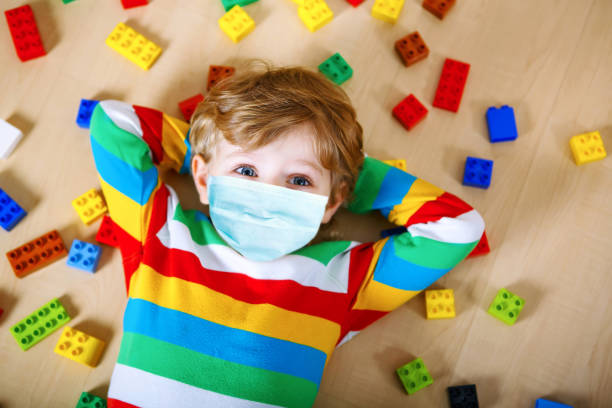with mask: (192, 72, 337, 263)
